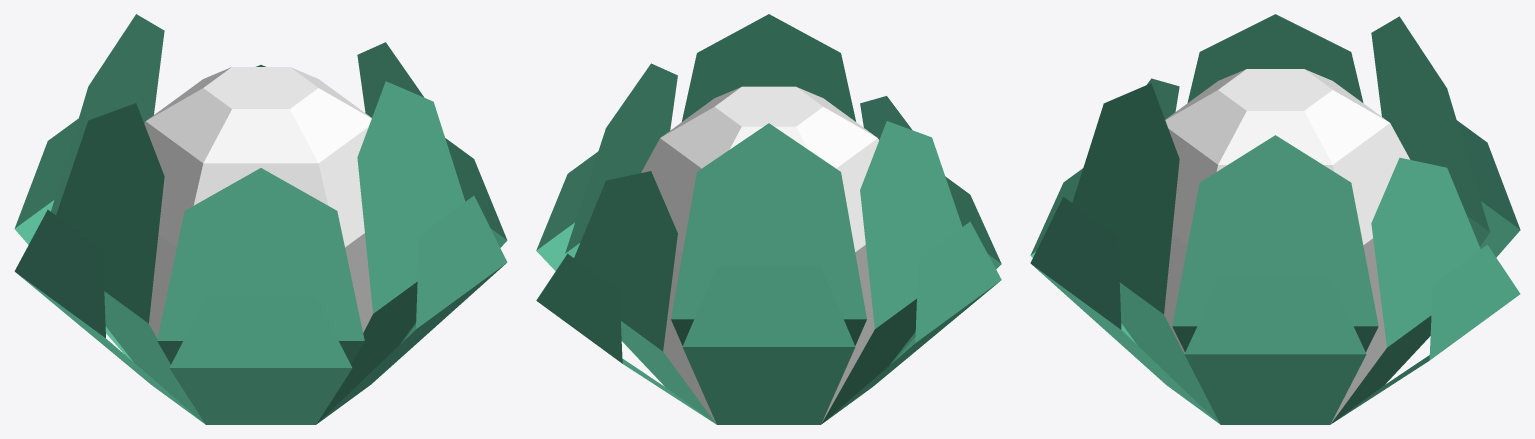
Rendered from cauliflower.obj.
3 views of the same model, side by side, from view 1: azimuth 30°, elevation 25°; view 2: azimuth 150°, elevation 25°; view 3: azimuth 270°, elevation 25° (orthographic). The views are drawn at different scales.
Parts seen in each view (by area): view 1: cauliflower; view 2: cauliflower; view 3: cauliflower.
Boxes of the visible parts, x1,y1,x2,y2 form: cauliflower: (14,14,507,424); cauliflower: (536,14,1001,424); cauliflower: (1030,14,1520,424).
Bounding box in the file's own units: 0.3794 × 0.3074 × 0.4036.
